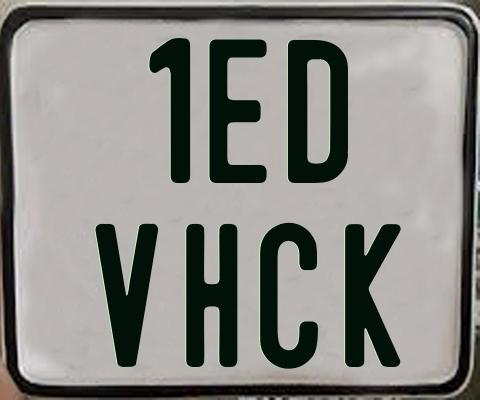1: (146, 36, 193, 181)
C: (257, 221, 318, 372)
D: (285, 39, 349, 182)
E: (209, 37, 269, 181)
H: (184, 224, 239, 370)
K: (344, 223, 406, 366)
V: (92, 224, 157, 369)
